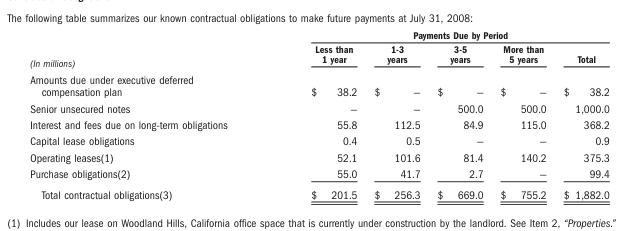table: (29, 29, 608, 200)
table column: (29, 29, 268, 200), (268, 29, 364, 200), (364, 29, 428, 200), (428, 29, 491, 200), (491, 29, 554, 200), (554, 29, 608, 200)
table column header: (29, 29, 608, 70)
table row: (29, 70, 608, 99), (29, 42, 608, 70), (29, 165, 608, 183), (29, 99, 608, 116), (29, 132, 608, 149), (29, 183, 608, 200), (29, 116, 608, 132), (29, 149, 608, 165), (29, 29, 608, 42)
table spanning cell: (29, 29, 268, 70), (268, 29, 608, 42)
